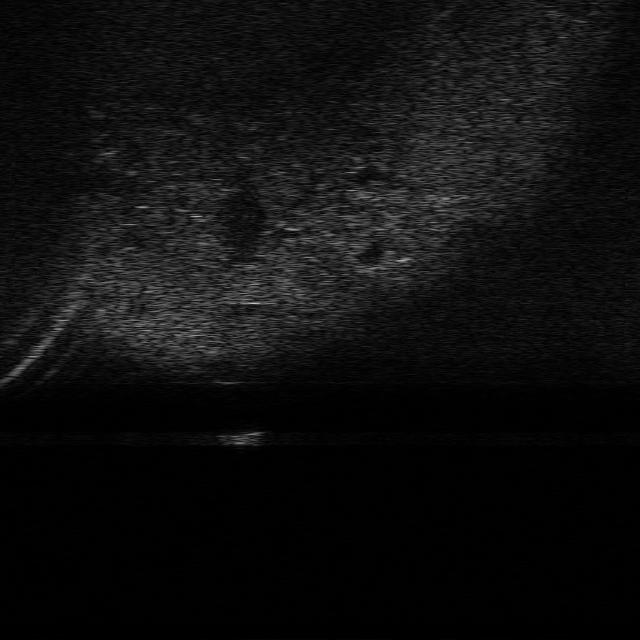cube: (217, 424, 265, 447)
